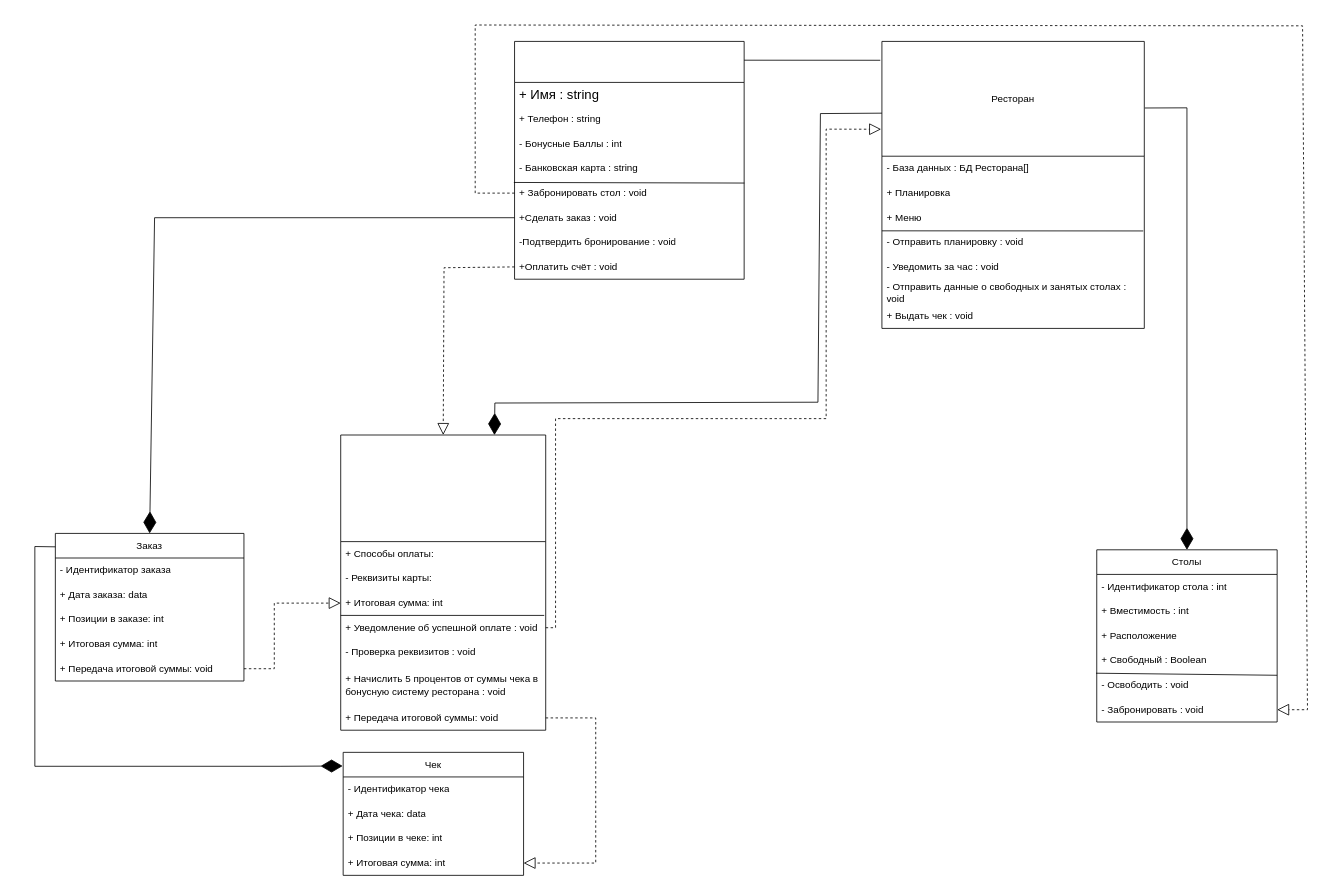
Image size: 1333x890. Some labels were removed from this diagram. The box of each missing label's shape, as (x1, y1, x2, y2) in pixels:
Клиент: (514, 41, 744, 279)
Платёжная система: (340, 434, 546, 730)
